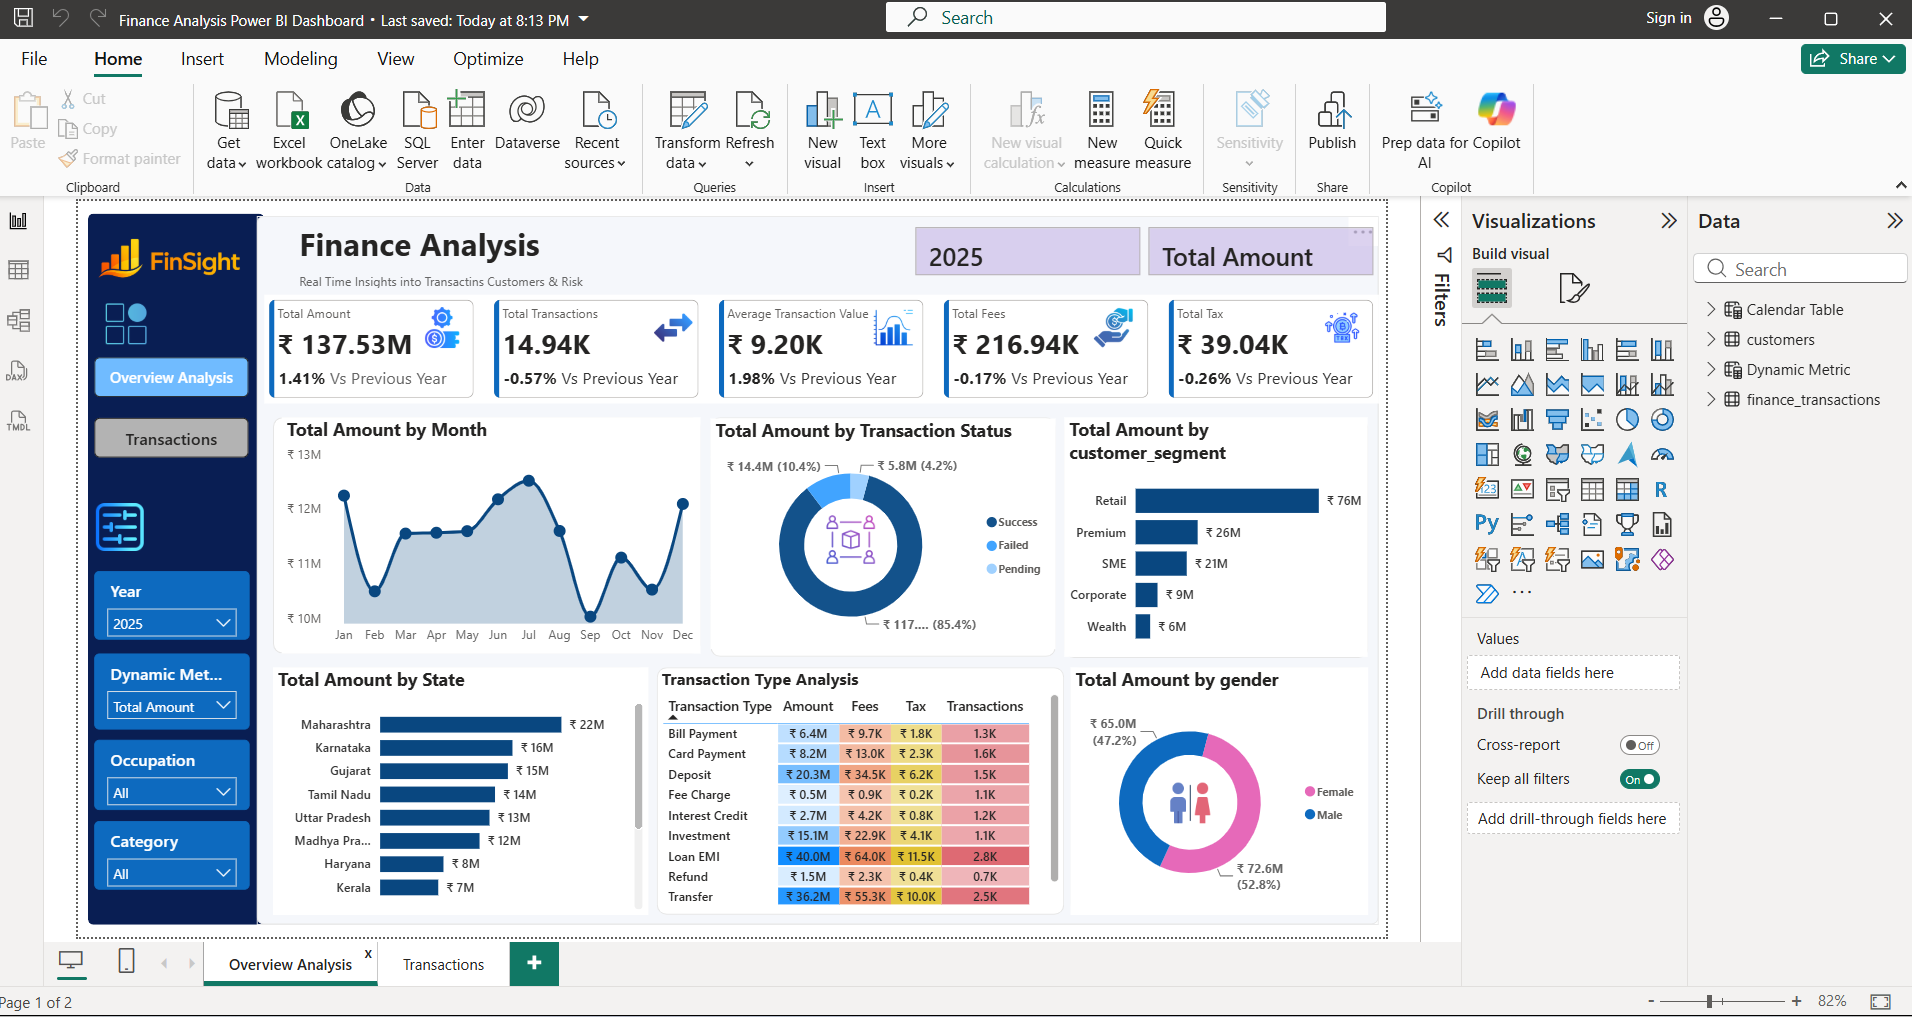

Layout of this report page (visuals, bound fields, positions):
{"tool":"powerbi","page":{"name":"Overview Analysis","canvas":[1280,720],"ordinal":0},"visuals":[{"type":"shape","box":[9.8,12.2,172.4,695.8],"z":0},{"type":"shape","box":[175.2,15.1,1097.5,693.1],"z":1000},{"type":"image","box":[9.8,20.8,162.6,70.9],"z":2000},{"type":"cardVisual","fields":{"Data":["finance_transactions.Dashboard Title"]},"box":[199.3,17.1,313,73],"z":3000},{"type":"cardVisual","fields":{"Data":["finance_transactions.Total Amount","finance_transactions.Total Transactions","finance_transactions.Average Transaction Value","finance_transactions.Total Fees","finance_transactions.Total Tax"]},"box":[182.2,91.7,1090.8,106.4],"z":4000},{"type":"slicer","fields":{"Values":["Calendar Table.Year"]},"box":[15.9,362,151.6,67.3],"z":5000},{"type":"image","box":[331.4,99,50.1,50.1],"z":6000},{"type":"image","box":[557.6,99,50.1,50.1],"z":7000},{"type":"image","box":[988,99,50.1,50.1],"z":8000},{"type":"image","box":[772.8,99,50.1,50.1],"z":9000},{"type":"image","box":[1211.8,99,50.1,50.1],"z":10000},{"type":"slicer","fields":{"Values":["Dynamic Metric.Dynamic Metric"]},"box":[15.9,442.7,151.6,74.6],"z":11000},{"type":"shape","box":[190.8,211.6,418.2,231.1],"z":12000},{"type":"areaChart","fields":{"Y":["finance_transactions.Total Amount"],"Category":["Calendar Table.Month"]},"box":[199.3,211.6,409.6,231.1],"z":13000},{"type":"cardVisual","fields":{"Data":["finance_transactions.Selected Year","finance_transactions.Selected Dynamic Measure"]},"box":[814.6,21.3,458.1,57.7],"z":14000},{"type":"shape","box":[618.7,211.7,337.7,234.4],"z":15000},{"type":"donutChart","fields":{"Y":["finance_transactions.Total Amount"],"Category":["finance_transactions.transaction_status"]},"box":[618.7,213,337.7,225.6],"z":16000},{"type":"shape","box":[965.2,213,297.4,234.4],"z":17000},{"type":"barChart","fields":{"Y":["finance_transactions.Total Amount"],"Category":["customers.customer_segment"]},"box":[964.8,211.6,297.1,234.8],"z":18000},{"type":"shape","box":[190.8,456.1,366.8,242.1],"z":19000},{"type":"barChart","fields":{"Y":["finance_transactions.Total Amount"],"Category":["customers.state"]},"box":[190.8,456.1,366.8,242.1],"z":20000},{"type":"shape","box":[566.2,456.1,398.6,242.1],"z":21000},{"type":"tableEx","title":"Transaction Type Analysis","fields":{"Values":["finance_transactions.transaction_type","finance_transactions.Total Amount","finance_transactions.Total Fees","finance_transactions.Total Tax","finance_transactions.Total Transactions"]},"box":[566.2,456.1,398.6,237.2],"z":22000},{"type":"shape","box":[970.9,456.1,291,242.1],"z":23000},{"type":"donutChart","fields":{"Y":["finance_transactions.Total Amount"],"Category":["customers.gender"]},"box":[970.9,456.1,291,242.1],"z":24000},{"type":"image","box":[723.9,300.8,63.6,61.1],"z":25000},{"type":"image","box":[1060.2,561.3,56.3,55],"z":26000},{"type":"slicer","fields":{"Values":["customers.occupation"]},"box":[15.9,527,151.6,68.5],"z":27000},{"type":"slicer","fields":{"Values":["finance_transactions.merchant_category"]},"box":[15.9,606.5,151.6,67.3],"z":28000},{"type":"pageNavigator","box":[15.9,152.9,151.6,99],"z":29000},{"type":"image","box":[15.9,95.4,62.4,50.1],"z":30000},{"type":"image","box":[3.7,287.4,74.6,63.6],"z":31000}]}

Visuals, with their boxes on the page's 1280x720 design canvas (x1, y1, x2, y2). These are canvas units, not pixel positions in the 1912x1017 screenshot, which may show the page scaled, cropped or inside an application window:
shape: x1=10 y1=12 x2=182 y2=708
shape: x1=175 y1=15 x2=1273 y2=708
image: x1=10 y1=21 x2=172 y2=92
cardVisual - finance_transactions.Dashboard Title: x1=199 y1=17 x2=512 y2=90
cardVisual - finance_transactions.Total Amount x finance_transactions.Total Transactions: x1=182 y1=92 x2=1273 y2=198
slicer - Calendar Table.Year: x1=16 y1=362 x2=168 y2=429
image: x1=331 y1=99 x2=382 y2=149
image: x1=558 y1=99 x2=608 y2=149
image: x1=988 y1=99 x2=1038 y2=149
image: x1=773 y1=99 x2=823 y2=149
image: x1=1212 y1=99 x2=1262 y2=149
slicer - Dynamic Metric.Dynamic Metric: x1=16 y1=443 x2=168 y2=517
shape: x1=191 y1=212 x2=609 y2=443
areaChart - finance_transactions.Total Amount x Calendar Table.Month: x1=199 y1=212 x2=609 y2=443
cardVisual - finance_transactions.Selected Year x finance_transactions.Selected Dynamic Measure: x1=815 y1=21 x2=1273 y2=79
shape: x1=619 y1=212 x2=956 y2=446
donutChart - finance_transactions.Total Amount x finance_transactions.transaction_status: x1=619 y1=213 x2=956 y2=439
shape: x1=965 y1=213 x2=1263 y2=447
barChart - finance_transactions.Total Amount x customers.customer_segment: x1=965 y1=212 x2=1262 y2=446
shape: x1=191 y1=456 x2=558 y2=698
barChart - finance_transactions.Total Amount x customers.state: x1=191 y1=456 x2=558 y2=698
shape: x1=566 y1=456 x2=965 y2=698
"Transaction Type Analysis" tableEx: x1=566 y1=456 x2=965 y2=693
shape: x1=971 y1=456 x2=1262 y2=698
donutChart - finance_transactions.Total Amount x customers.gender: x1=971 y1=456 x2=1262 y2=698
image: x1=724 y1=301 x2=788 y2=362
image: x1=1060 y1=561 x2=1116 y2=616
slicer - customers.occupation: x1=16 y1=527 x2=168 y2=596
slicer - finance_transactions.merchant_category: x1=16 y1=606 x2=168 y2=674
pageNavigator: x1=16 y1=153 x2=168 y2=252
image: x1=16 y1=95 x2=78 y2=146
image: x1=4 y1=287 x2=78 y2=351
